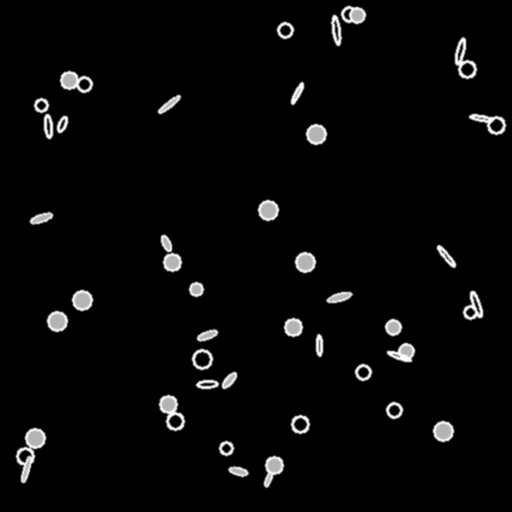pseudomonas: (436, 244, 456, 268), (157, 94, 181, 114), (469, 290, 483, 318), (453, 37, 467, 65), (386, 349, 412, 363), (29, 211, 53, 225), (20, 456, 32, 482), (290, 82, 304, 104), (196, 328, 218, 342), (327, 291, 351, 303), (221, 371, 237, 389), (331, 16, 341, 44), (228, 465, 248, 477), (56, 115, 68, 133), (160, 234, 172, 252), (44, 114, 52, 138), (469, 114, 493, 122), (196, 380, 218, 388), (263, 471, 273, 487), (316, 334, 322, 356)
synechocystis: (307, 125, 325, 143), (434, 422, 452, 440), (296, 253, 314, 271), (26, 429, 44, 447), (259, 201, 277, 219), (48, 312, 66, 330), (73, 291, 91, 309), (193, 350, 211, 368), (266, 457, 282, 473), (292, 416, 308, 432), (160, 396, 176, 412), (17, 448, 33, 464), (164, 254, 180, 270), (459, 61, 475, 77), (167, 413, 183, 429), (488, 117, 504, 133), (285, 319, 301, 335), (61, 72, 77, 88), (386, 320, 400, 334), (356, 365, 370, 379), (342, 7, 356, 21), (387, 403, 401, 417), (278, 23, 292, 37), (350, 8, 364, 22), (399, 344, 413, 358), (77, 77, 91, 91), (190, 283, 202, 295), (464, 306, 476, 318), (220, 442, 232, 454), (35, 99, 47, 111)
